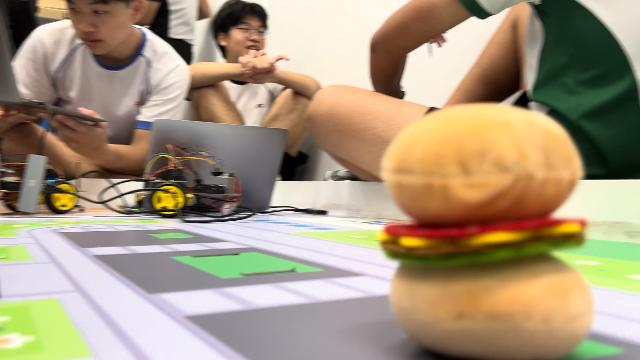burger: (378, 100, 598, 358)
